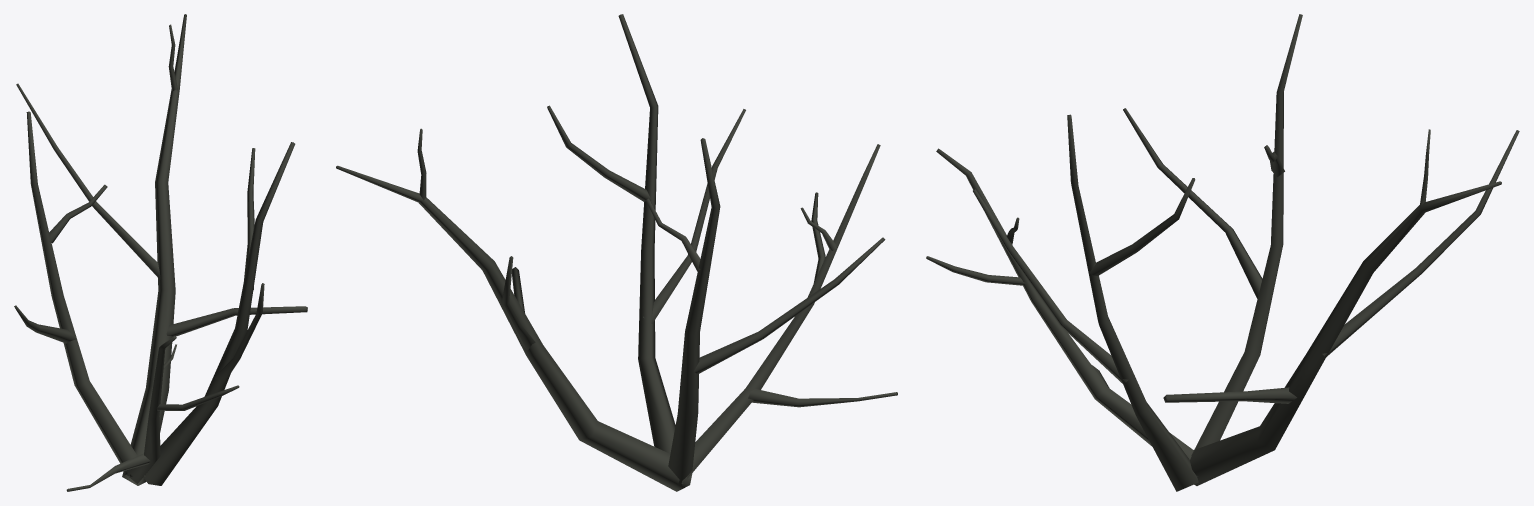
The model's file is bush_2.fbx.
3 renders of one model, left to right at view 1: azimuth 30°, elevation 25°; view 2: azimuth 150°, elevation 25°; view 3: azimuth 270°, elevation 25°, orthographic. The views are drawn at different scales.
Visible parts, largest first — view 1: bush_2; view 2: bush_2; view 3: bush_2.
Part boxes in pixels (box(x1,y1,x2,y2)): bush_2: box(14, 14, 307, 491); bush_2: box(336, 14, 897, 491); bush_2: box(926, 14, 1519, 491).
Bounding box in the file's own units: 2.97 × 3.11 × 3.86.
